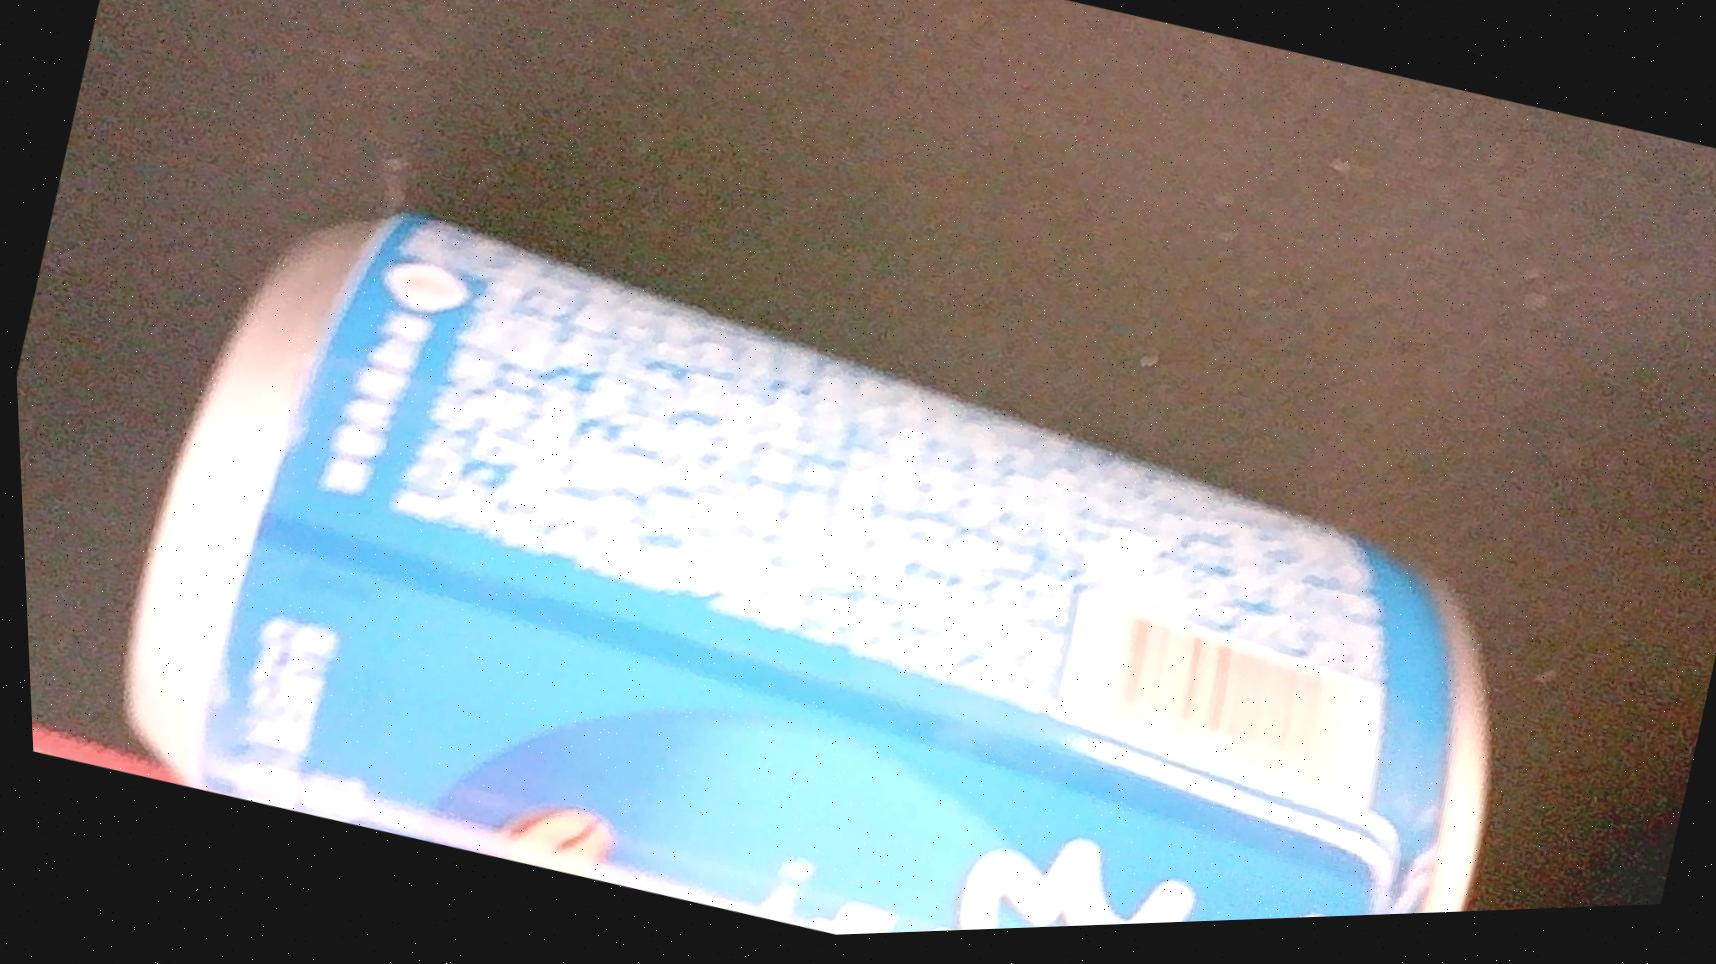letsbe: (67, 130, 1575, 962)
